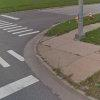Crosswalk: (1, 8, 38, 51)
